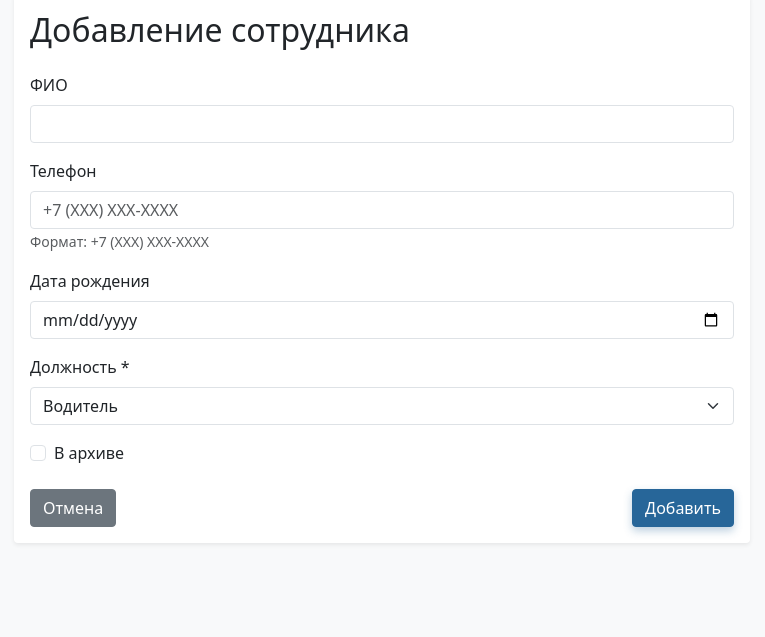
EmployeeEdit › должен отображать ошибки валидации при отправке пустой формы
Step 1. Click the button "Добавить" → (683, 508), box x1=632 y1=489 x2=734 y2=527
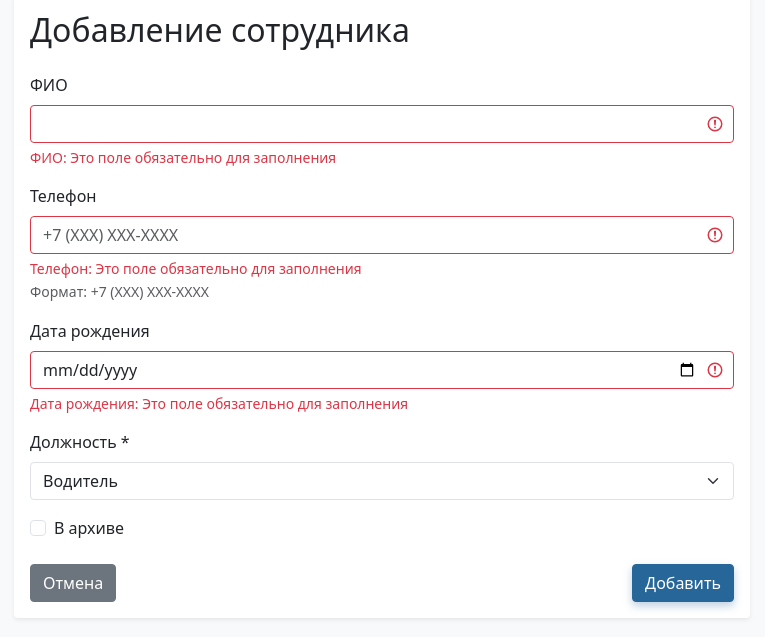
Expected: the text "ФИО: Это поле обязательно для заполнения" is shown, x1=30 y1=148 x2=336 y2=167
Expected: the text "Телефон: Это поле обязательно для заполнения" is shown, x1=30 y1=259 x2=362 y2=278
Expected: the text "Дата рождения: Это поле обязательно для заполнения" is shown, x1=30 y1=394 x2=408 y2=413
